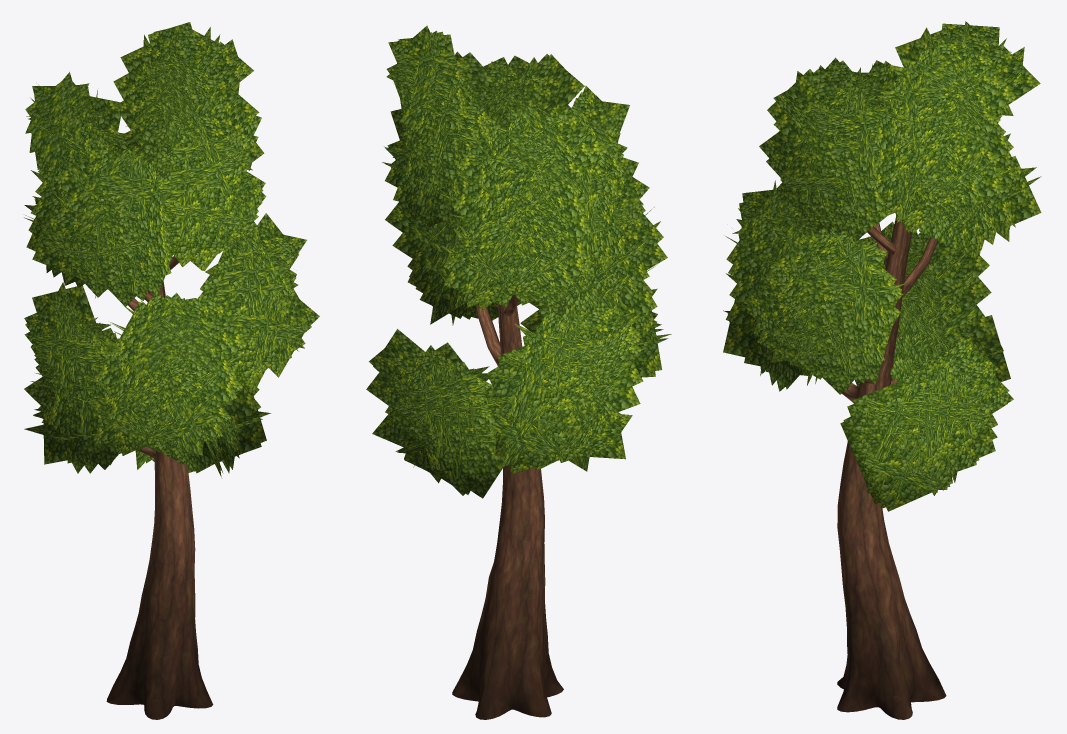
Rendered from CommonTree_3.gltf.
The picture shows the model from 3 angles, left to right: view 1: azimuth 30°, elevation 25°; view 2: azimuth 150°, elevation 25°; view 3: azimuth 270°, elevation 25°; orthographic projection. The views are drawn at different scales.
Parts seen in each view (by area): view 1: CommonTree_3; view 2: CommonTree_3; view 3: CommonTree_3.
Boxes of the visible parts, <box> form: CommonTree_3: <box>24,22,319,719</box>; CommonTree_3: <box>366,25,671,719</box>; CommonTree_3: <box>723,21,1041,719</box>.
Bounding box in the file's own units: 4.06 × 9.43 × 4.24.
Materials: 2 (2 with a texture image).
